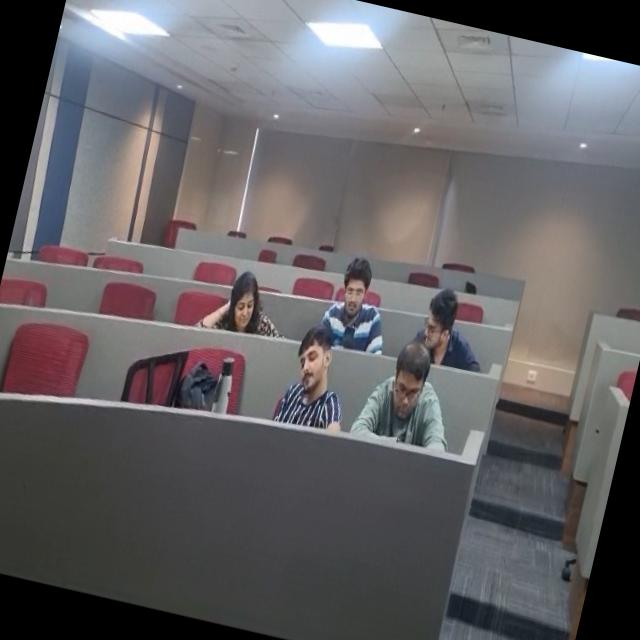cheating: (316, 248, 402, 351), (408, 270, 488, 372)
non-cheating: (359, 348, 453, 455), (272, 324, 352, 438), (191, 256, 285, 347)
